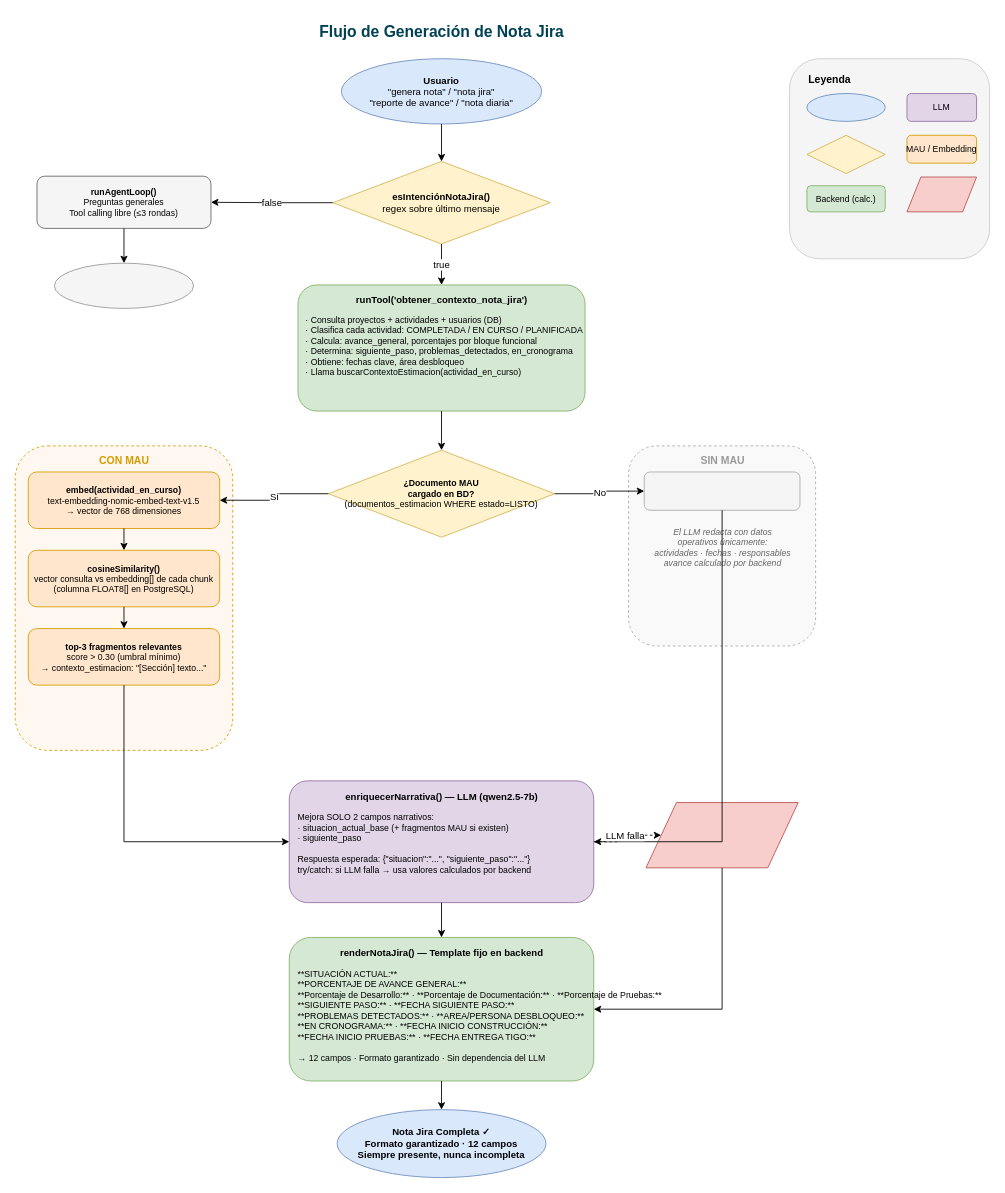
The diagram is 1005 pixels wide and 1193 high, and some of its shapes have lost their labels. The shapes that lost their labels are listed below. From the top down, each one's box as (x1, y1, x2, y2) in pixels, then its label:
(806, 93, 885, 121): Inicio / Fin
(806, 134, 885, 174): Decisión
(906, 176, 977, 212): Fallback
(54, 262, 194, 308): Respuesta conversacional
(643, 471, 800, 510): contexto_estimacion: null
(645, 802, 798, 868): Fallback Valores calculados sin enriquecimiento
